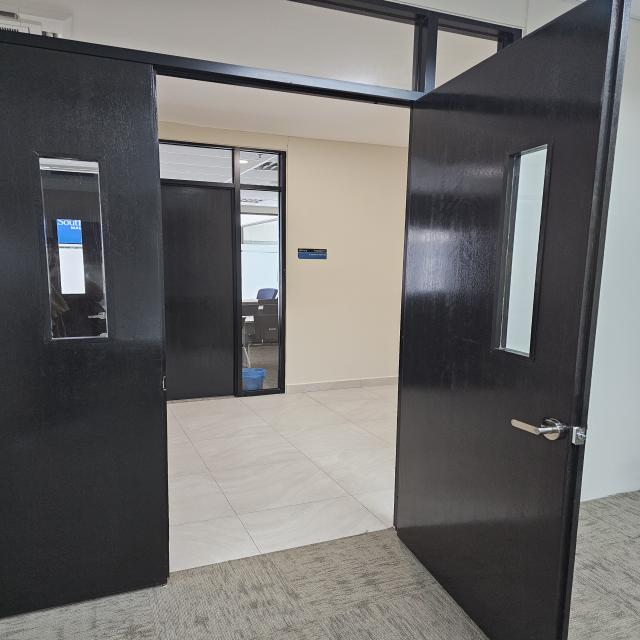door: (392, 1, 628, 638), (0, 58, 165, 599)
footpath: (172, 406, 373, 637)
